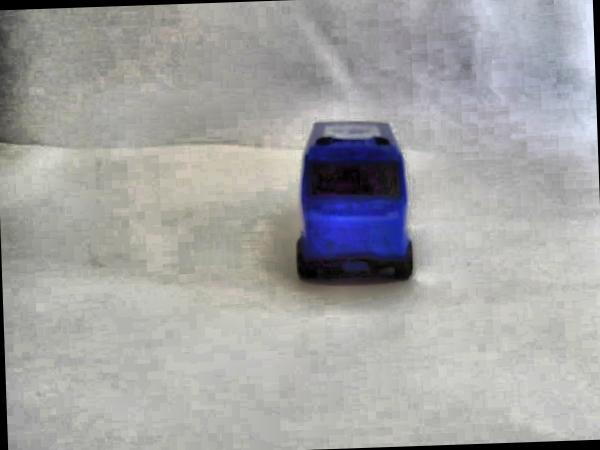police car: (288, 109, 420, 289)
